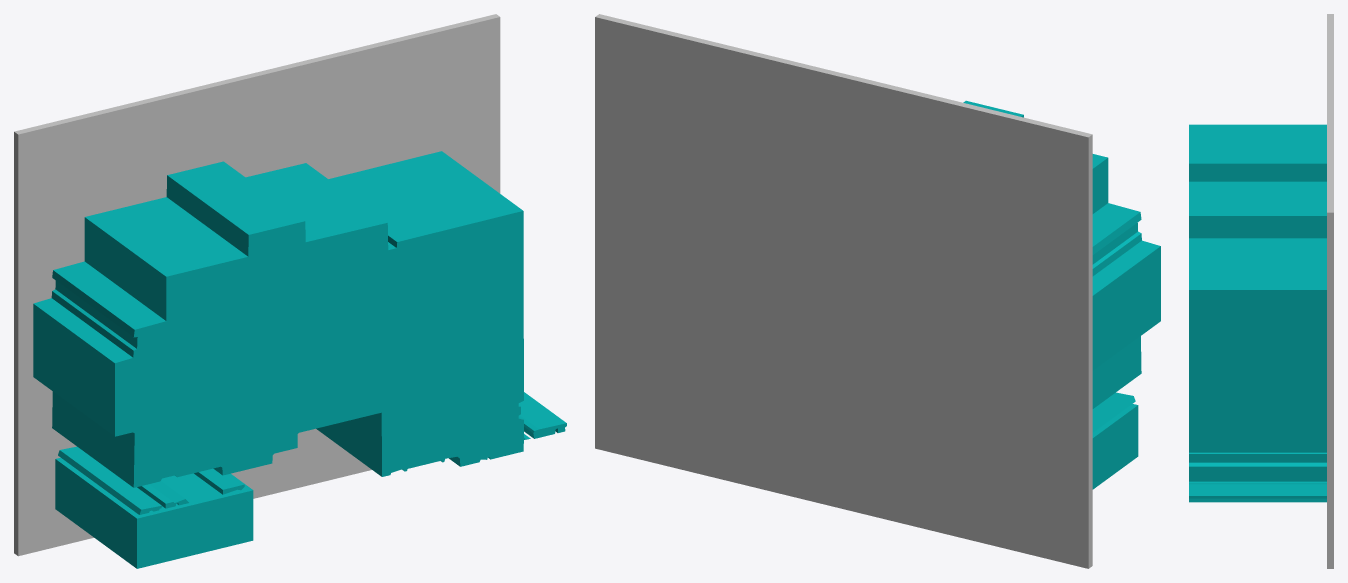
3 views of the same model, side by side, from view 1: azimuth 30°, elevation 25°; view 2: azimuth 150°, elevation 25°; view 3: azimuth 270°, elevation 25° (orthographic). The views are drawn at different scales.
Visible parts, largest first — view 1: world; view 2: world; view 3: world.
Part boxes in pixels (left/top/right/bottom): world: left=14, top=14, right=566, bottom=568; world: left=595, top=14, right=1160, bottom=568; world: left=1189, top=14, right=1333, bottom=568.
Bounding box in the file's own units: 10.23 × 8.55 × 3.15.
